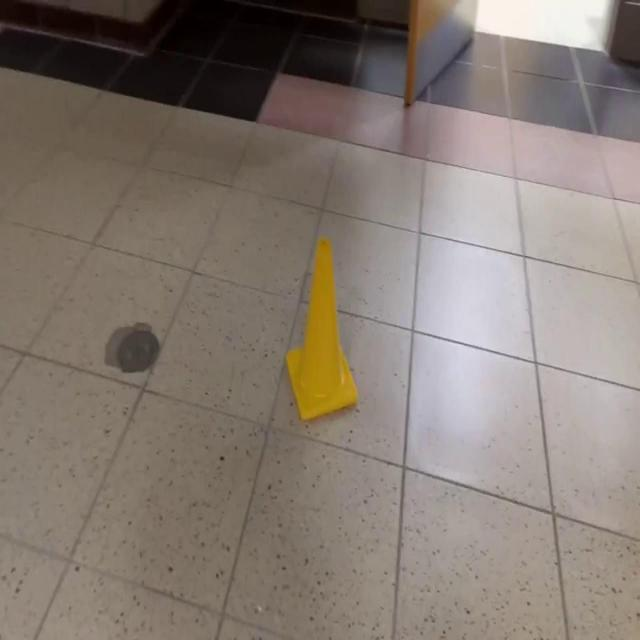frc_cone: (284, 234, 360, 424)
